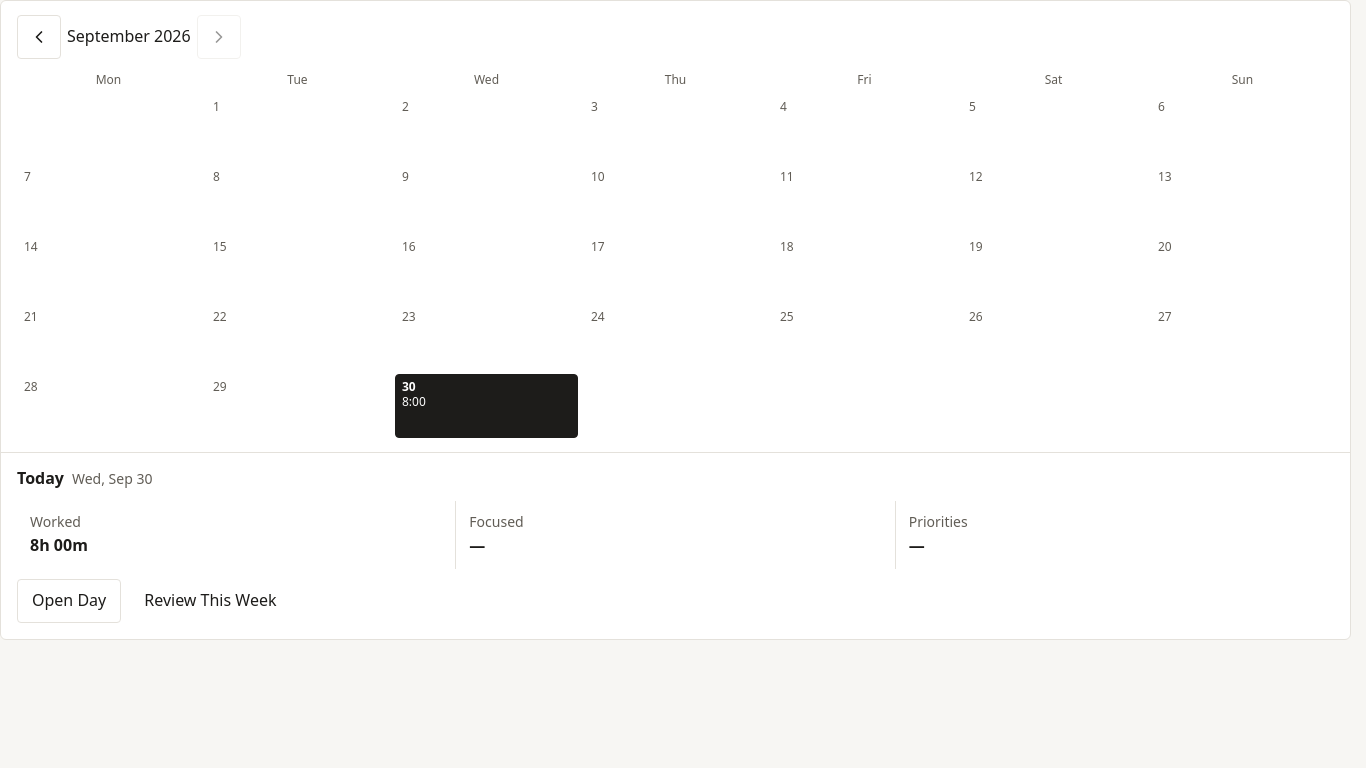
Scenario: Calendar › scrolls the day panel into view on a pick, never as it opens or on a month step
Click the button named "Previous month": click(39, 37) 17,15 -> 61,59
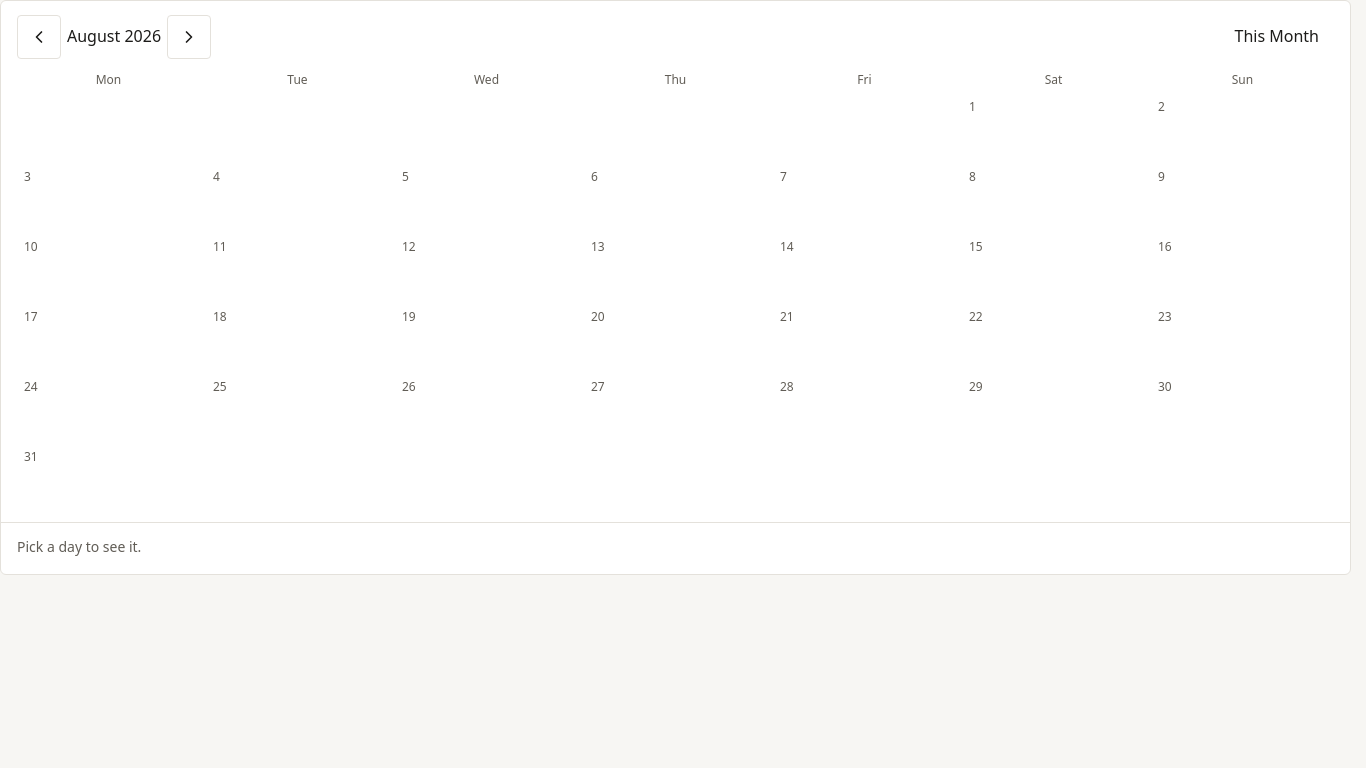
Click the button named "Next month": click(189, 37) 167,15 -> 211,59
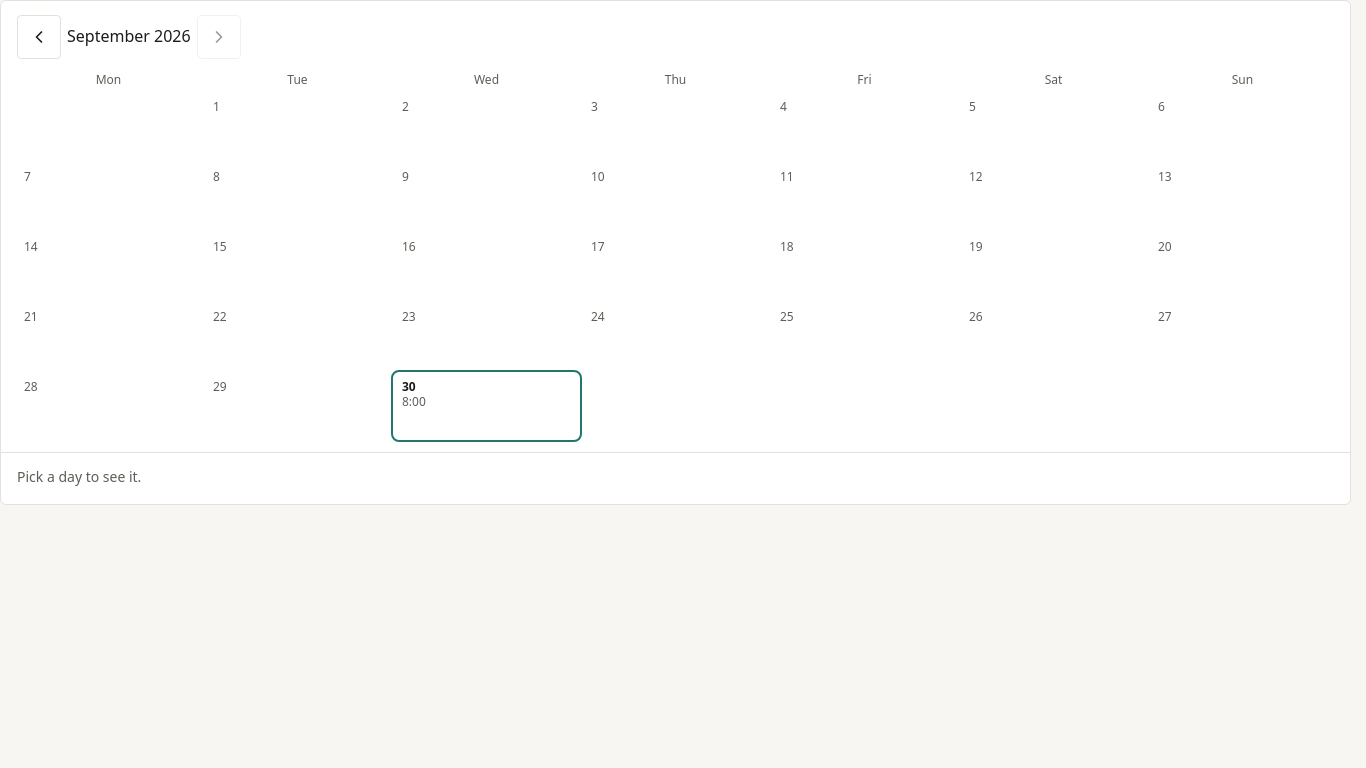
Click the button "30 8:00": click(486, 406) 395,374 -> 578,438
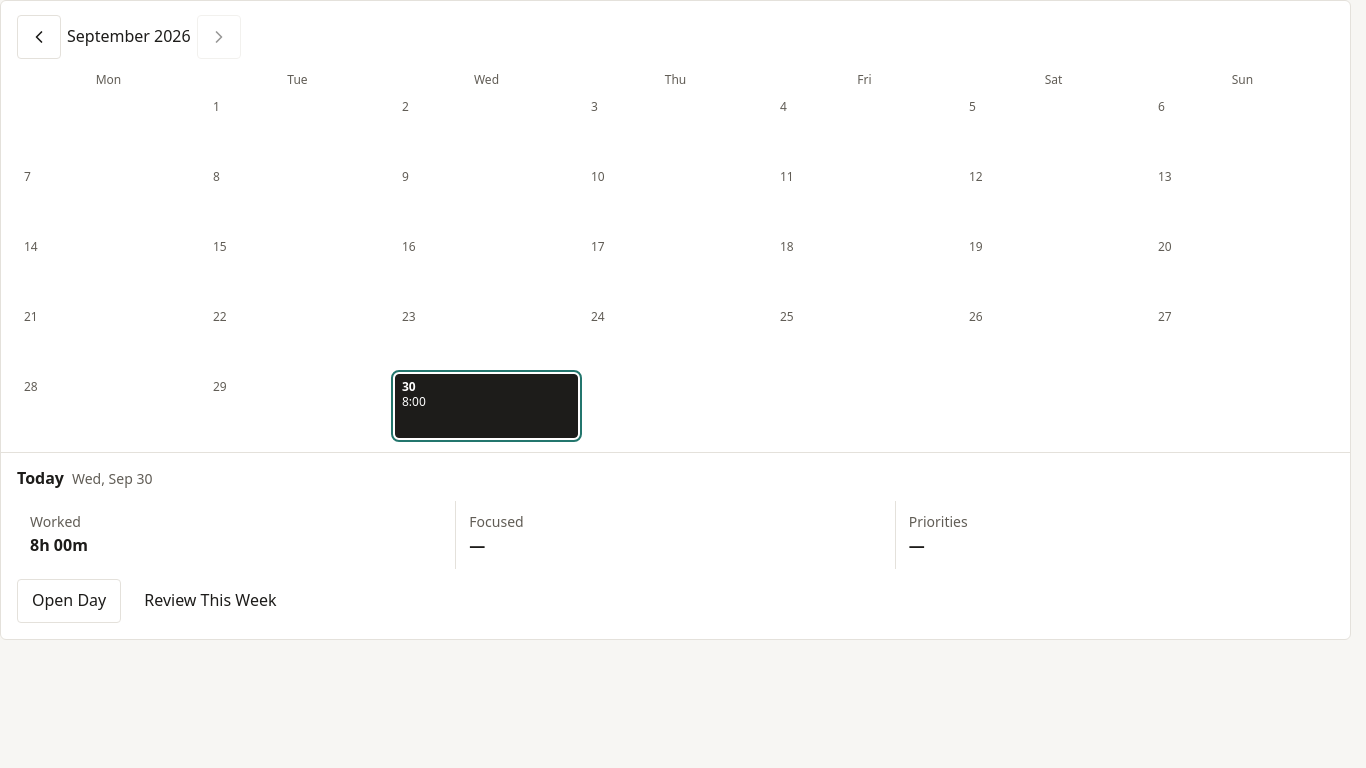
expect the element with class "calendar-detail" shows "Worked": met, box 30,512 -> 81,531
